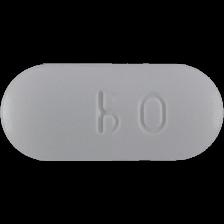50090-2017: (0, 0, 224, 224)
